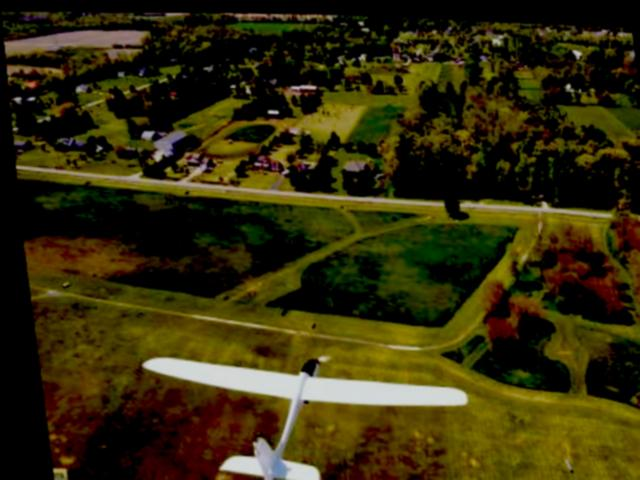uav: (121, 324, 480, 480)
